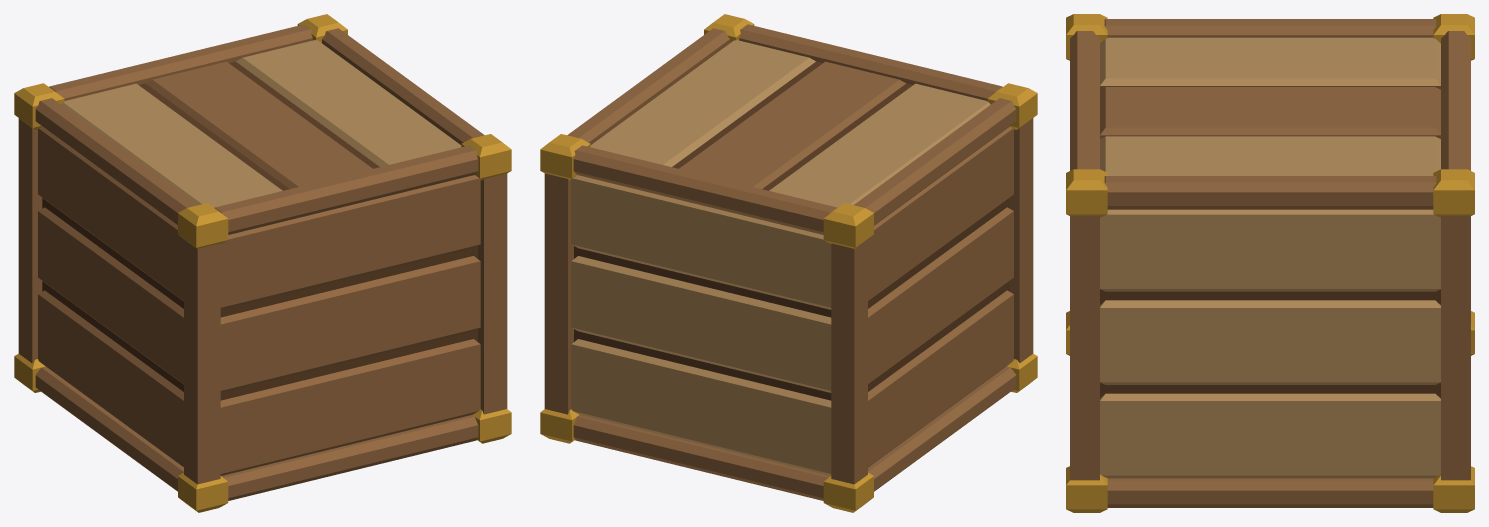
File: Crate_03.glb
The picture shows the model from 3 angles, left to right: view 1: azimuth 30°, elevation 25°; view 2: azimuth 150°, elevation 25°; view 3: azimuth 270°, elevation 25°; orthographic projection. The views are drawn at different scales.
Parts seen in each view (by area): view 1: Crate_03; view 2: Crate_03; view 3: Crate_03.
Boxes of the visible parts, x1,y1,x2,y2 form: Crate_03: (14, 14, 511, 512); Crate_03: (540, 14, 1037, 512); Crate_03: (1066, 14, 1474, 512).
Bounding box in the file's own units: 2.17 × 1.95 × 2.17.
